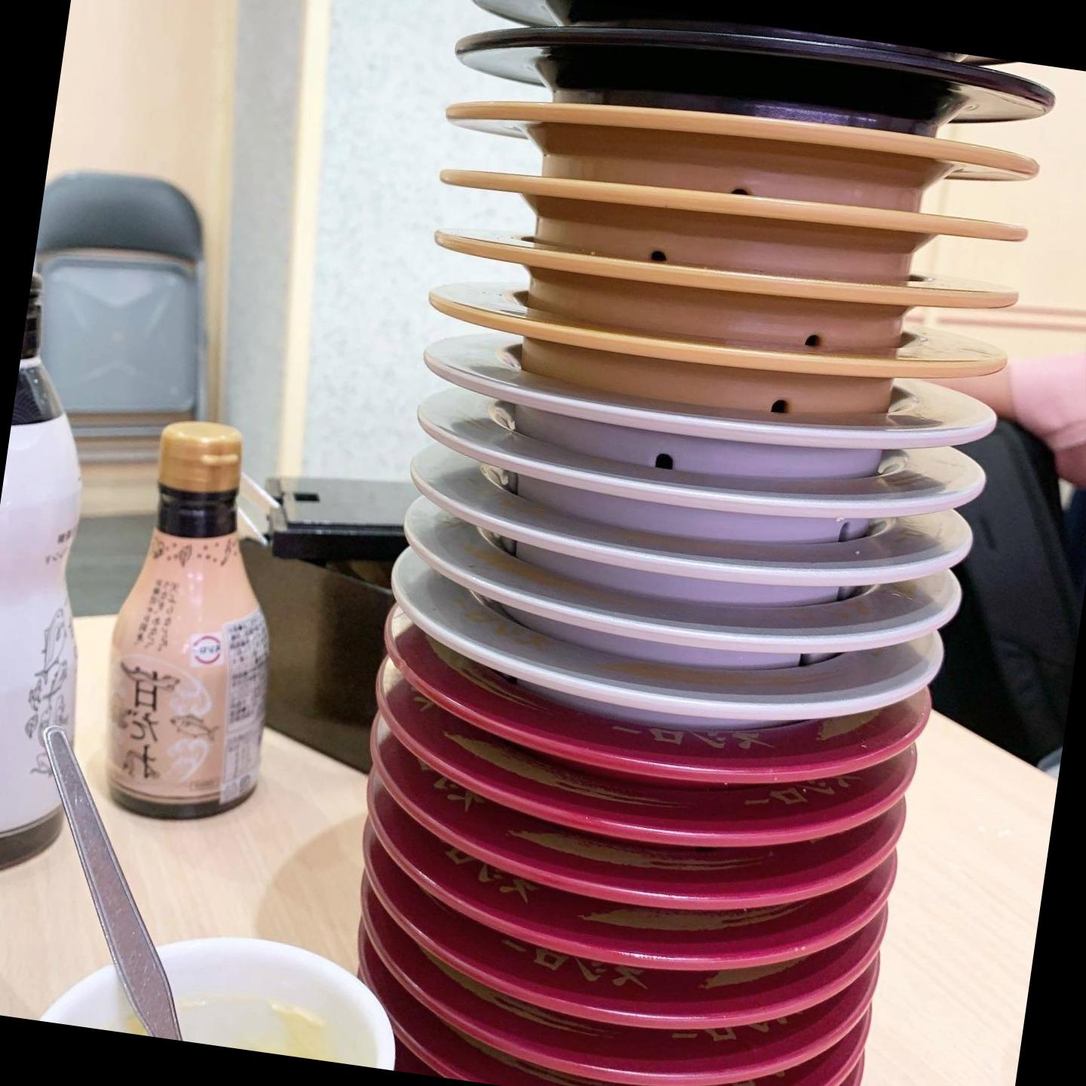Janback: (431, 11, 1051, 151), (421, 0, 1066, 94)
Jangold: (427, 142, 1019, 304), (425, 77, 1023, 235), (423, 221, 1000, 366), (410, 275, 986, 417)
Janred: (389, 678, 871, 798), (373, 877, 793, 983), (448, 759, 847, 864), (399, 824, 796, 929), (412, 946, 781, 1043), (412, 1002, 781, 1086), (410, 1040, 796, 1086)
Janwhite: (425, 361, 943, 488), (419, 542, 922, 658), (467, 424, 924, 550), (443, 491, 926, 599), (445, 608, 887, 721)
